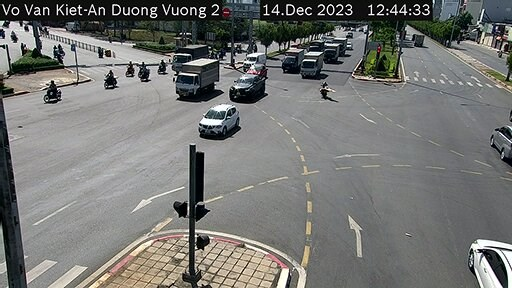car: (455, 227, 512, 287), (200, 100, 238, 146), (481, 113, 512, 165), (230, 68, 267, 106), (241, 49, 272, 73)
motorbike: (38, 81, 65, 103), (96, 70, 119, 91), (315, 83, 335, 102), (135, 62, 150, 82), (122, 59, 133, 78)
truck: (169, 40, 215, 71), (180, 54, 214, 95), (298, 47, 326, 80), (282, 47, 301, 74)
